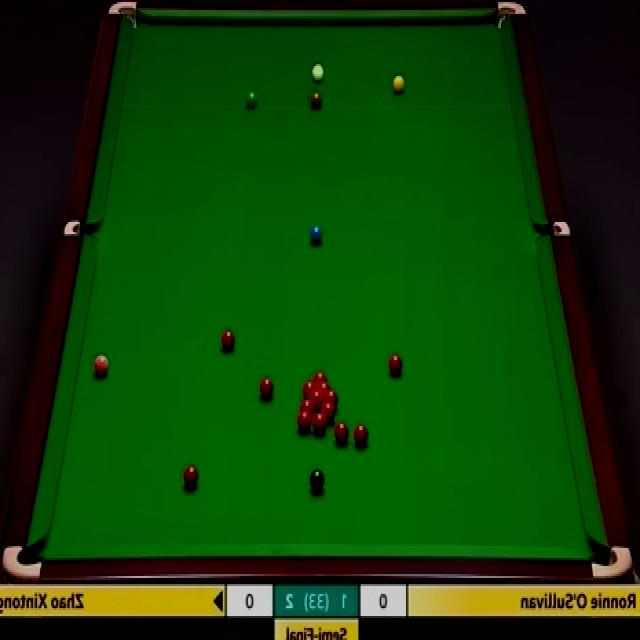black-ball: (309, 468, 325, 492)
blue-ball: (308, 223, 324, 246)
brown-ball: (310, 91, 322, 110)
green-ball: (246, 90, 258, 109)
pink-ball: (92, 352, 110, 380)
red-ball: (182, 464, 199, 490), (220, 330, 237, 355), (388, 353, 404, 377), (311, 411, 327, 434), (353, 424, 369, 447), (297, 409, 312, 433), (260, 377, 275, 401), (335, 423, 349, 446), (321, 402, 336, 421), (302, 381, 318, 397), (300, 399, 316, 413), (308, 390, 324, 404), (324, 389, 338, 402), (312, 370, 328, 381), (315, 381, 331, 390)
white-ball: (310, 60, 324, 83)
yellow-ball: (394, 72, 407, 95)
